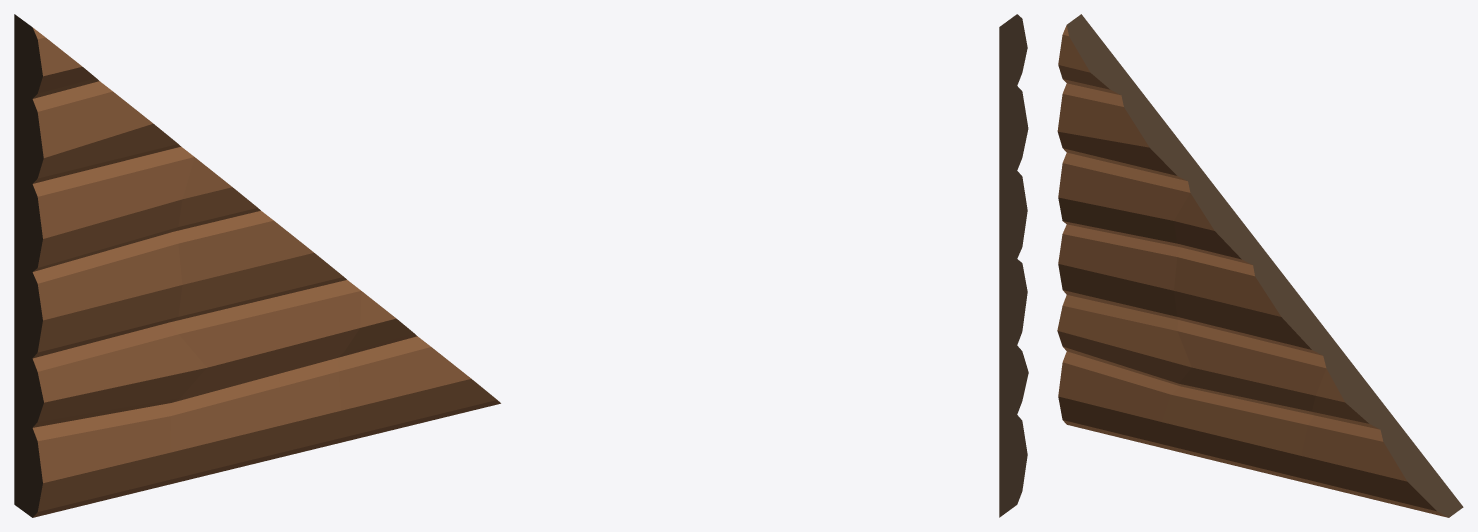
The model's file is buildings-wall-wood-horizontal-end-r-3x3m.glb.
3 views of the same model, side by side, from view 1: azimuth 30°, elevation 25°; view 2: azimuth 150°, elevation 25°; view 3: azimuth 330°, elevation 25° (orthographic). The views are drawn at different scales.
Visible parts, largest first — view 1: wall-wood-horizontal-end-r-3x3m; view 2: wall-wood-horizontal-end-r-3x3m; view 3: wall-wood-horizontal-end-r-3x3m.
Part boxes in pixels (<box>): wall-wood-horizontal-end-r-3x3m: <box>14,14,500,517</box>; wall-wood-horizontal-end-r-3x3m: <box>999,14,1028,517</box>; wall-wood-horizontal-end-r-3x3m: <box>1057,14,1463,517</box>.
Size of the model in its own units: 3 by 3 by 0.328.
